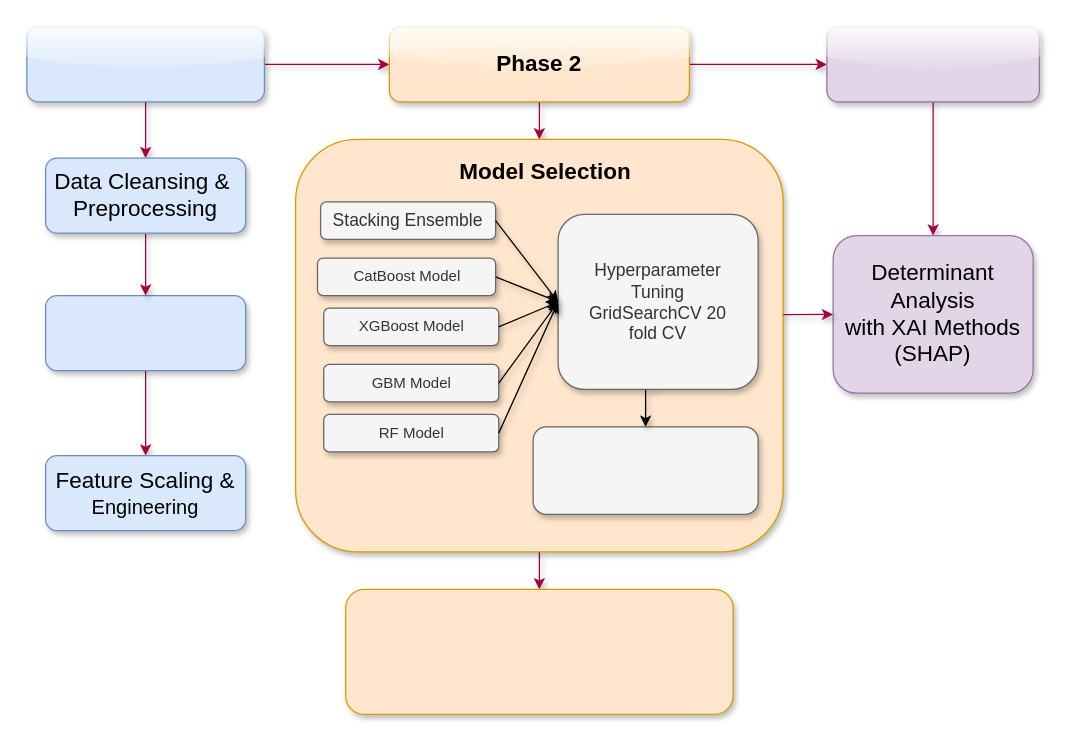
The diagram is 1069 pixels wide and 745 high, and some of its shapes have lost their labels. The centre of each missing label's shape, as x and y in pixels:
EDA: (146,334)
Model Evalution (R 2 , MAE, RMSE, MAPE, Elapsed Time, Inferance Time, Memory): (540,653)
Optimal version of Models: (646,472)
Phase 1: (146,66)
Phase 3: (934,66)
